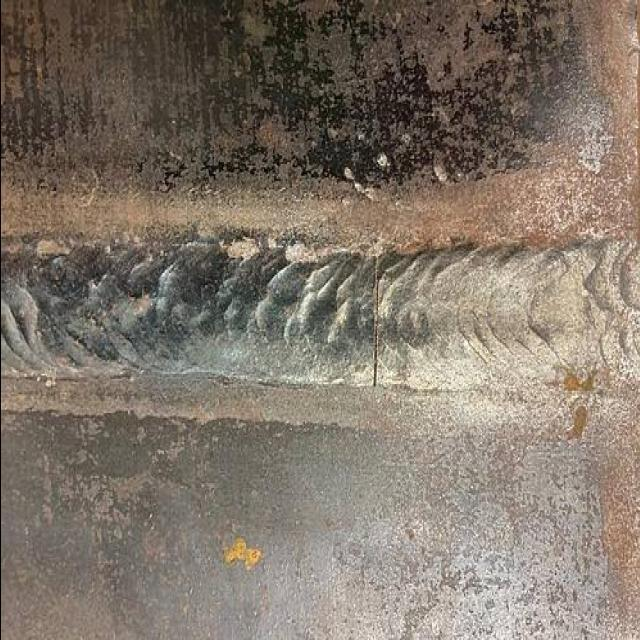Crack: (366, 260, 383, 400)
